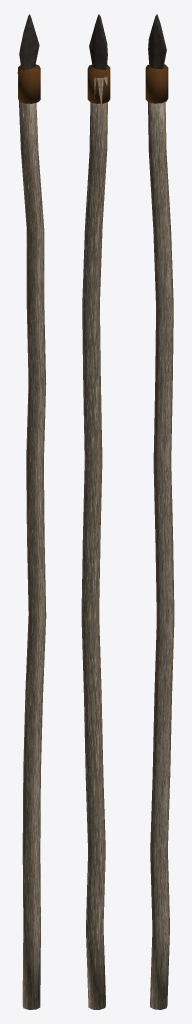
The model's file is SM_Item_spear.gltf.
3 views of the same model, side by side, from view 1: azimuth 30°, elevation 25°; view 2: azimuth 150°, elevation 25°; view 3: azimuth 330°, elevation 25° (orthographic).
Visible parts, largest first — view 1: SM_Item_spear; view 2: SM_Item_spear; view 3: SM_Item_spear.
Part boxes in pixels (bbox=[...]): SM_Item_spear: bbox=[17, 14, 46, 1009]; SM_Item_spear: bbox=[81, 14, 110, 1009]; SM_Item_spear: bbox=[145, 14, 174, 1009].
Size of the model in its own units: 0.0529 by 1.91 by 0.039.
Materials: 3 (3 with a texture image).
